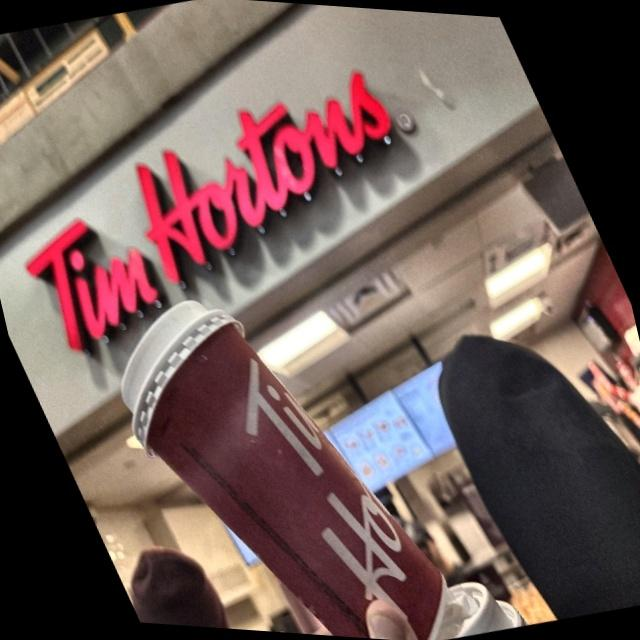Timmies: (59, 251, 482, 640)
